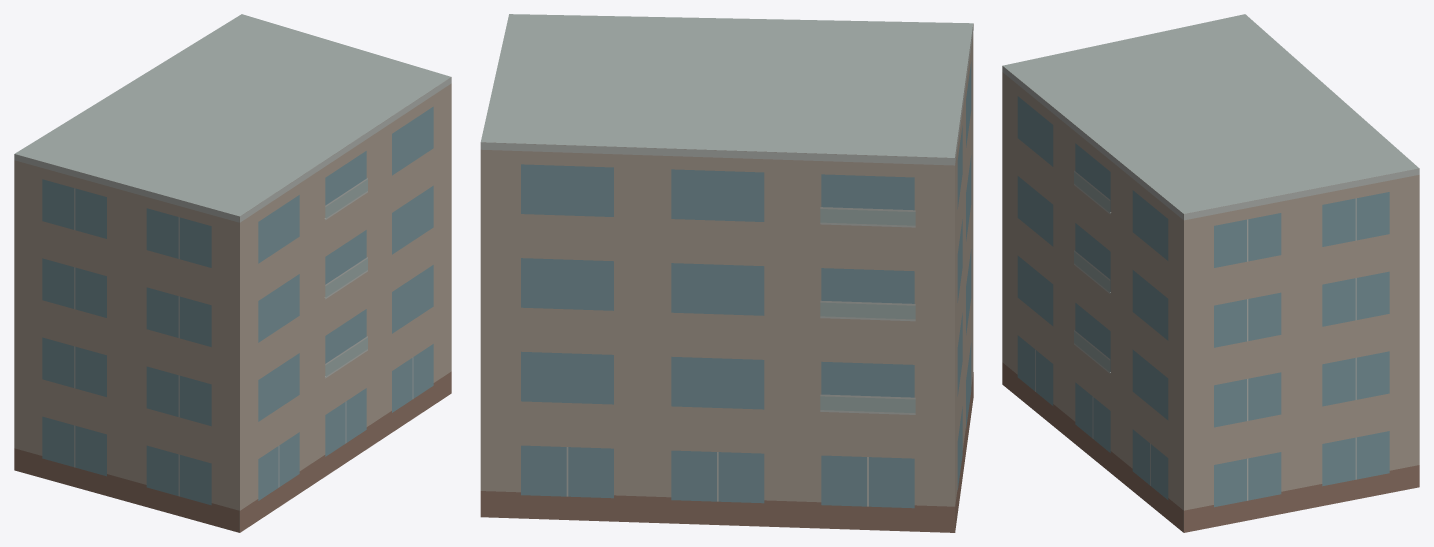
Rendered from survey-upis-32650664.glb.
The picture shows the model from 3 angles, left to right: view 1: azimuth 30°, elevation 25°; view 2: azimuth 150°, elevation 25°; view 3: azimuth 270°, elevation 25°; orthographic projection. The views are drawn at different scales.
Visible parts, largest first — view 1: survey-upis-32650664.tmp; view 2: survey-upis-32650664.tmp; view 3: survey-upis-32650664.tmp.
Part boxes in pixels (box(x1,y1,x2,y2)): survey-upis-32650664.tmp: box(14, 14, 451, 532); survey-upis-32650664.tmp: box(480, 14, 973, 532); survey-upis-32650664.tmp: box(1002, 14, 1419, 532).
Size of the model in its own units: 16.43 by 12.2 by 14.47.
